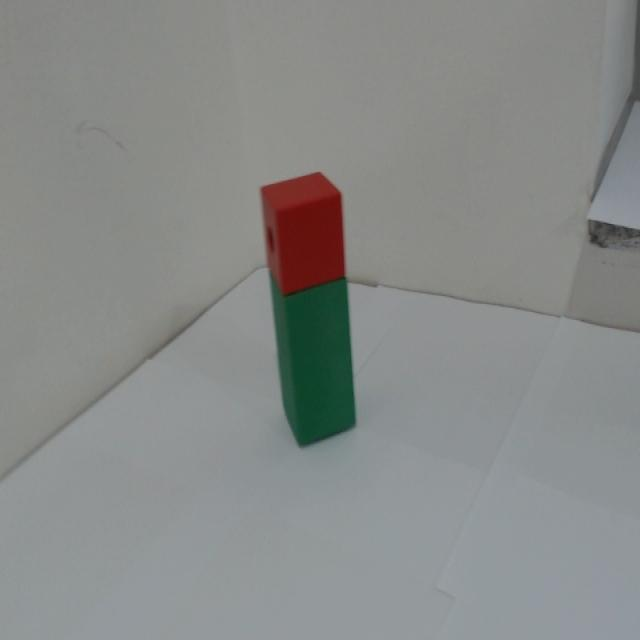cube: (242, 142, 361, 286)
